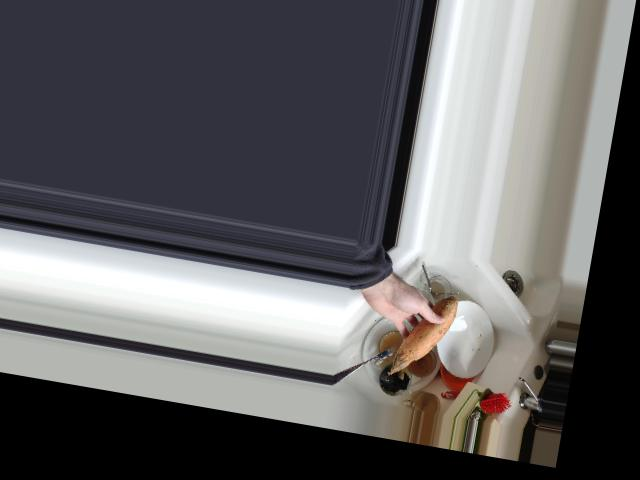sweet_potato: (385, 287, 462, 382)
